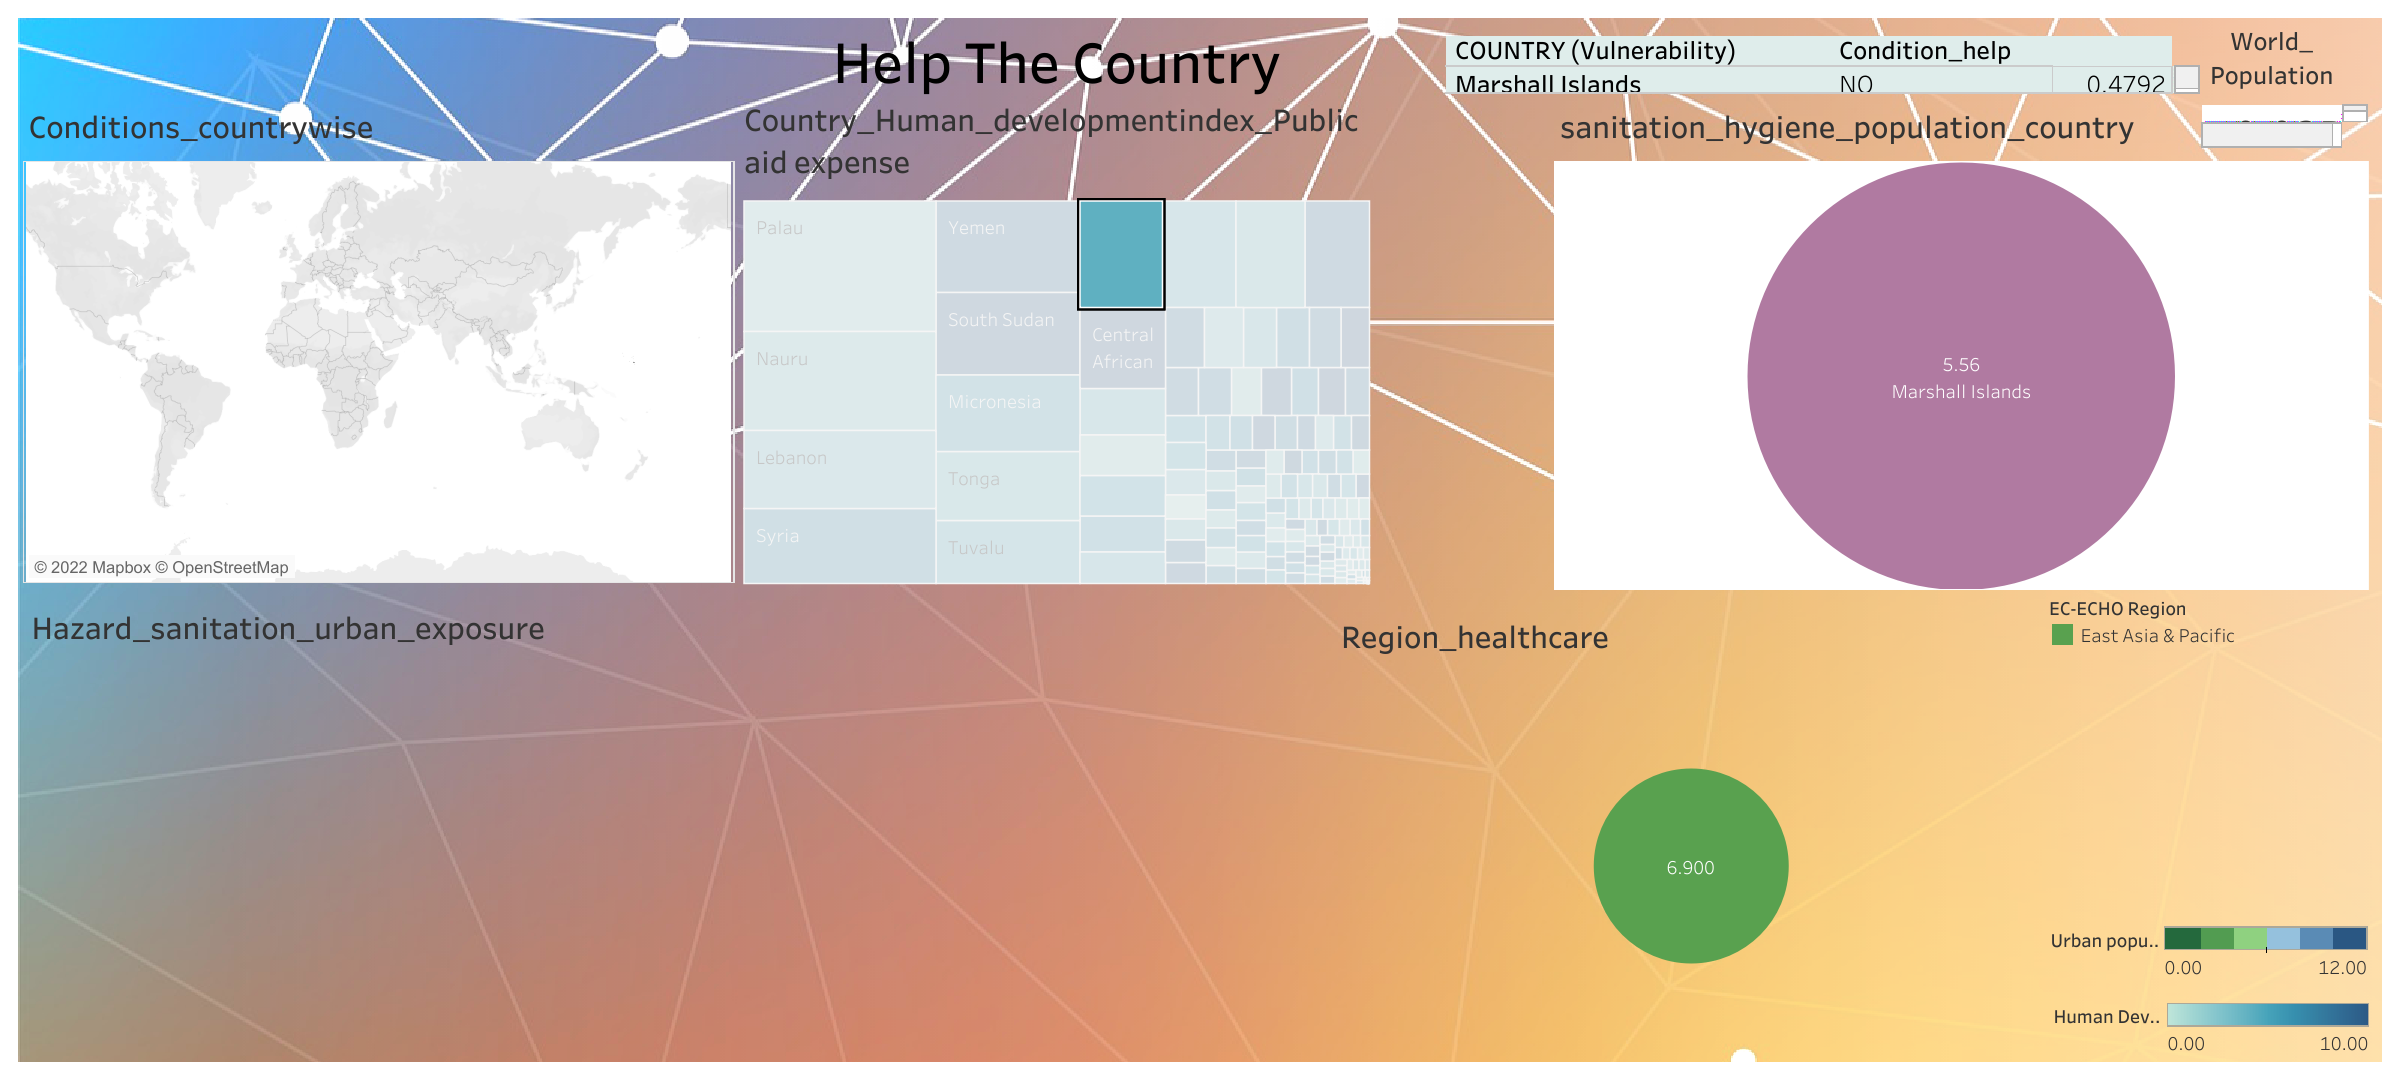

Layout of this report page (visuals, bound fields, positions):
{"tool":"tableau","page":{"name":"Help The country","canvas":[1000,1000],"units":"permille","ordinal":0},"visuals":[{"type":"image","param":"Image/Tableau-Background-2.png","box":[4.8,9.3,990.4,981.4]},{"type":"worksheet","title":"World_Population","mark":"Automatic","box":[917.4,12.8,69.4,124.4]},{"type":"text","box":[7.8,17.4,865.1,75.6]},{"type":"worksheet","title":"Help_index","mark":"Automatic","rows":["COUNTRY (Vulnerability)","Help_index (copy)_766174915971440644"],"box":[602.5,33.7,317.5,53.5]},{"type":"worksheet","title":"Country_Human_developmentindex_Public aid expense","mark":"Automatic","box":[307.2,81.4,341.4,466.3]},{"type":"worksheet","title":"Conditions_countrywise","mark":"Multipolygon","box":[9.3,88.4,296.8,452.3]},{"type":"worksheet","title":"sanitation_hygiene_population_country","mark":"Circle","box":[647.5,89.5,338.6,454.7]},{"type":"legend","title":"Region_healthcare","param":"[federated.1qdzv7r1xbfozx13e5vg41nebkfn].[none:EC-ECHO Region:nk]","box":[853.1,547.7,136.9,329.1]},{"type":"worksheet","title":"Number of countries","mark":"Automatic","rows":["F1"],"box":[744.5,551.2,101.1,75.6]},{"type":"worksheet","title":"Hazard_sanitation_urban_exposure","mark":"Automatic","rows":["Hazard & Exposure_CC7130AD254D4374A617C9D0696D8CF9"],"cols":["Household size"],"box":[10.4,552.3,544.9,432.6]},{"type":"worksheet","title":"Region_healthcare","mark":"Pie","box":[556.2,560.5,296.9,422.1]},{"type":"legend","title":"Hazard_sanitation_urban_exposure","param":"[federated.1qdzv7r1xbfozx13e5vg41nebkfn].[sum:Urban population growth:qk]","box":[854.5,852.3,135.1,53.5]},{"type":"legend","title":"Country_Human_developmentindex_Public aid expense","param":"[federated.1qdzv7r1xbfozx13e5vg41nebkfn].[sum:Human Development Index:qk]","box":[855.6,923.3,134.5,51.2]}]}

Visuals, with their boxes on the dashboard's canvas, which has no fixed pixel size, in thousandths of its width and height (x1, y1, x2, y2). These are canvas units, not pixel positions in the 2399x1079 screenshot, which may show the page scaled, cropped or inside an application window:
image: <box>5,9,995,991</box>
"World_Population" worksheet: <box>917,13,987,137</box>
text: <box>8,17,873,93</box>
"Help_index" worksheet: <box>602,34,920,87</box>
"Country_Human_developmentindex_Public aid expense" worksheet: <box>307,81,649,548</box>
"Conditions_countrywise" worksheet (Multipolygon marks): <box>9,88,306,541</box>
"sanitation_hygiene_population_country" worksheet (Circle marks): <box>648,90,986,544</box>
"Region_healthcare" legend: <box>853,548,990,877</box>
"Number of countries" worksheet: <box>744,551,846,627</box>
"Hazard_sanitation_urban_exposure" worksheet: <box>10,552,555,985</box>
"Region_healthcare" worksheet (Pie marks): <box>556,560,853,983</box>
"Hazard_sanitation_urban_exposure" legend: <box>854,852,990,906</box>
"Country_Human_developmentindex_Public aid expense" legend: <box>856,923,990,974</box>
